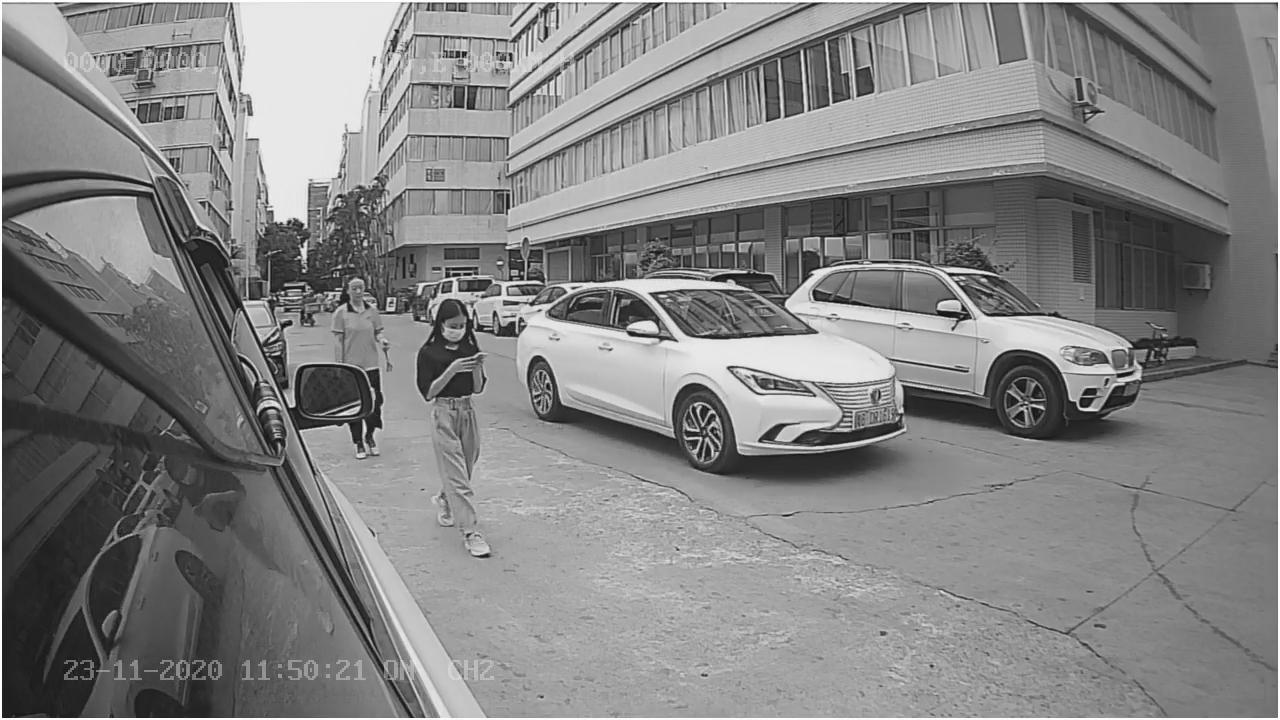person: (413, 295, 500, 558)
